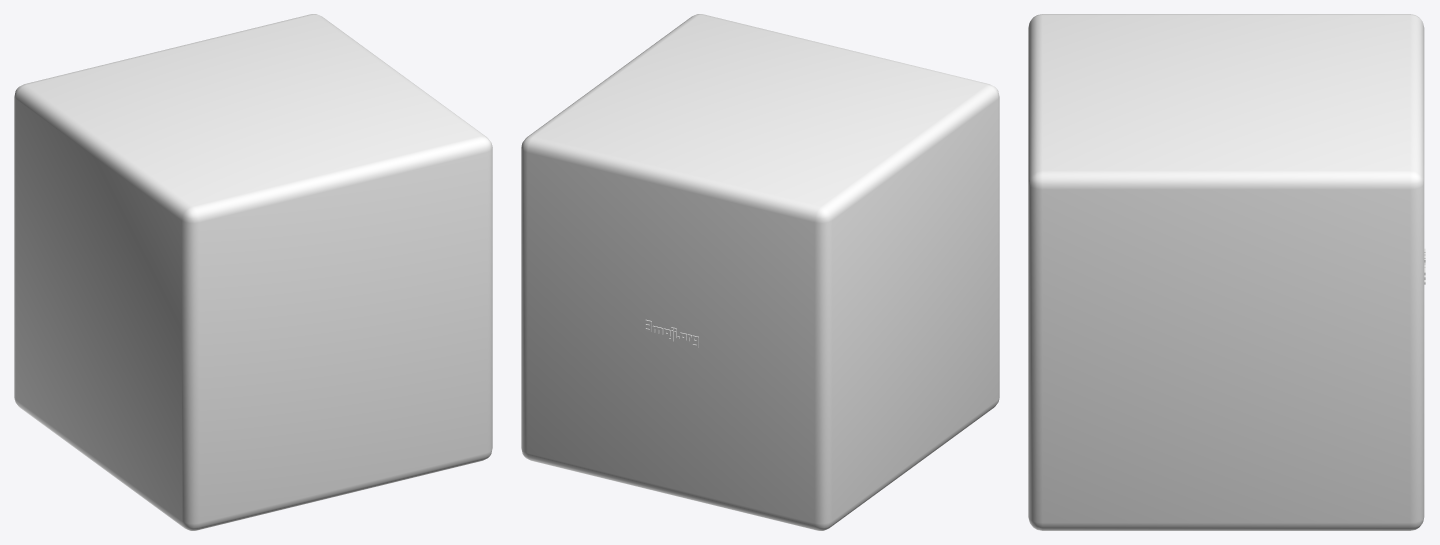
The model's file is white_medium_square.fbx.
The picture shows the model from 3 angles, left to right: view 1: azimuth 30°, elevation 25°; view 2: azimuth 150°, elevation 25°; view 3: azimuth 270°, elevation 25°; orthographic projection. The views are drawn at different scales.
Visible parts, largest first — view 1: brown_square.004; view 2: brown_square.004; view 3: brown_square.004.
Boxes of the visible parts, x1=… form: brown_square.004: x1=14, y1=14, x2=492, y2=530; brown_square.004: x1=521, y1=14, x2=999, y2=530; brown_square.004: x1=1028, y1=14, x2=1425, y2=530.
Size of the model in its own units: 153 by 153 by 154.
1 material, 1 textured.
